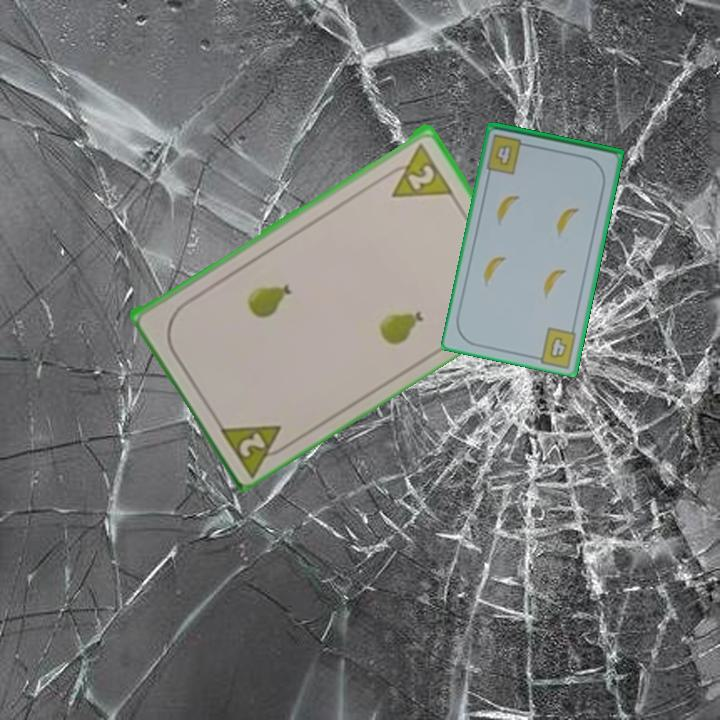2p: (215, 419, 296, 478), (379, 139, 455, 201)
4b: (483, 131, 533, 177), (547, 333, 570, 361)
